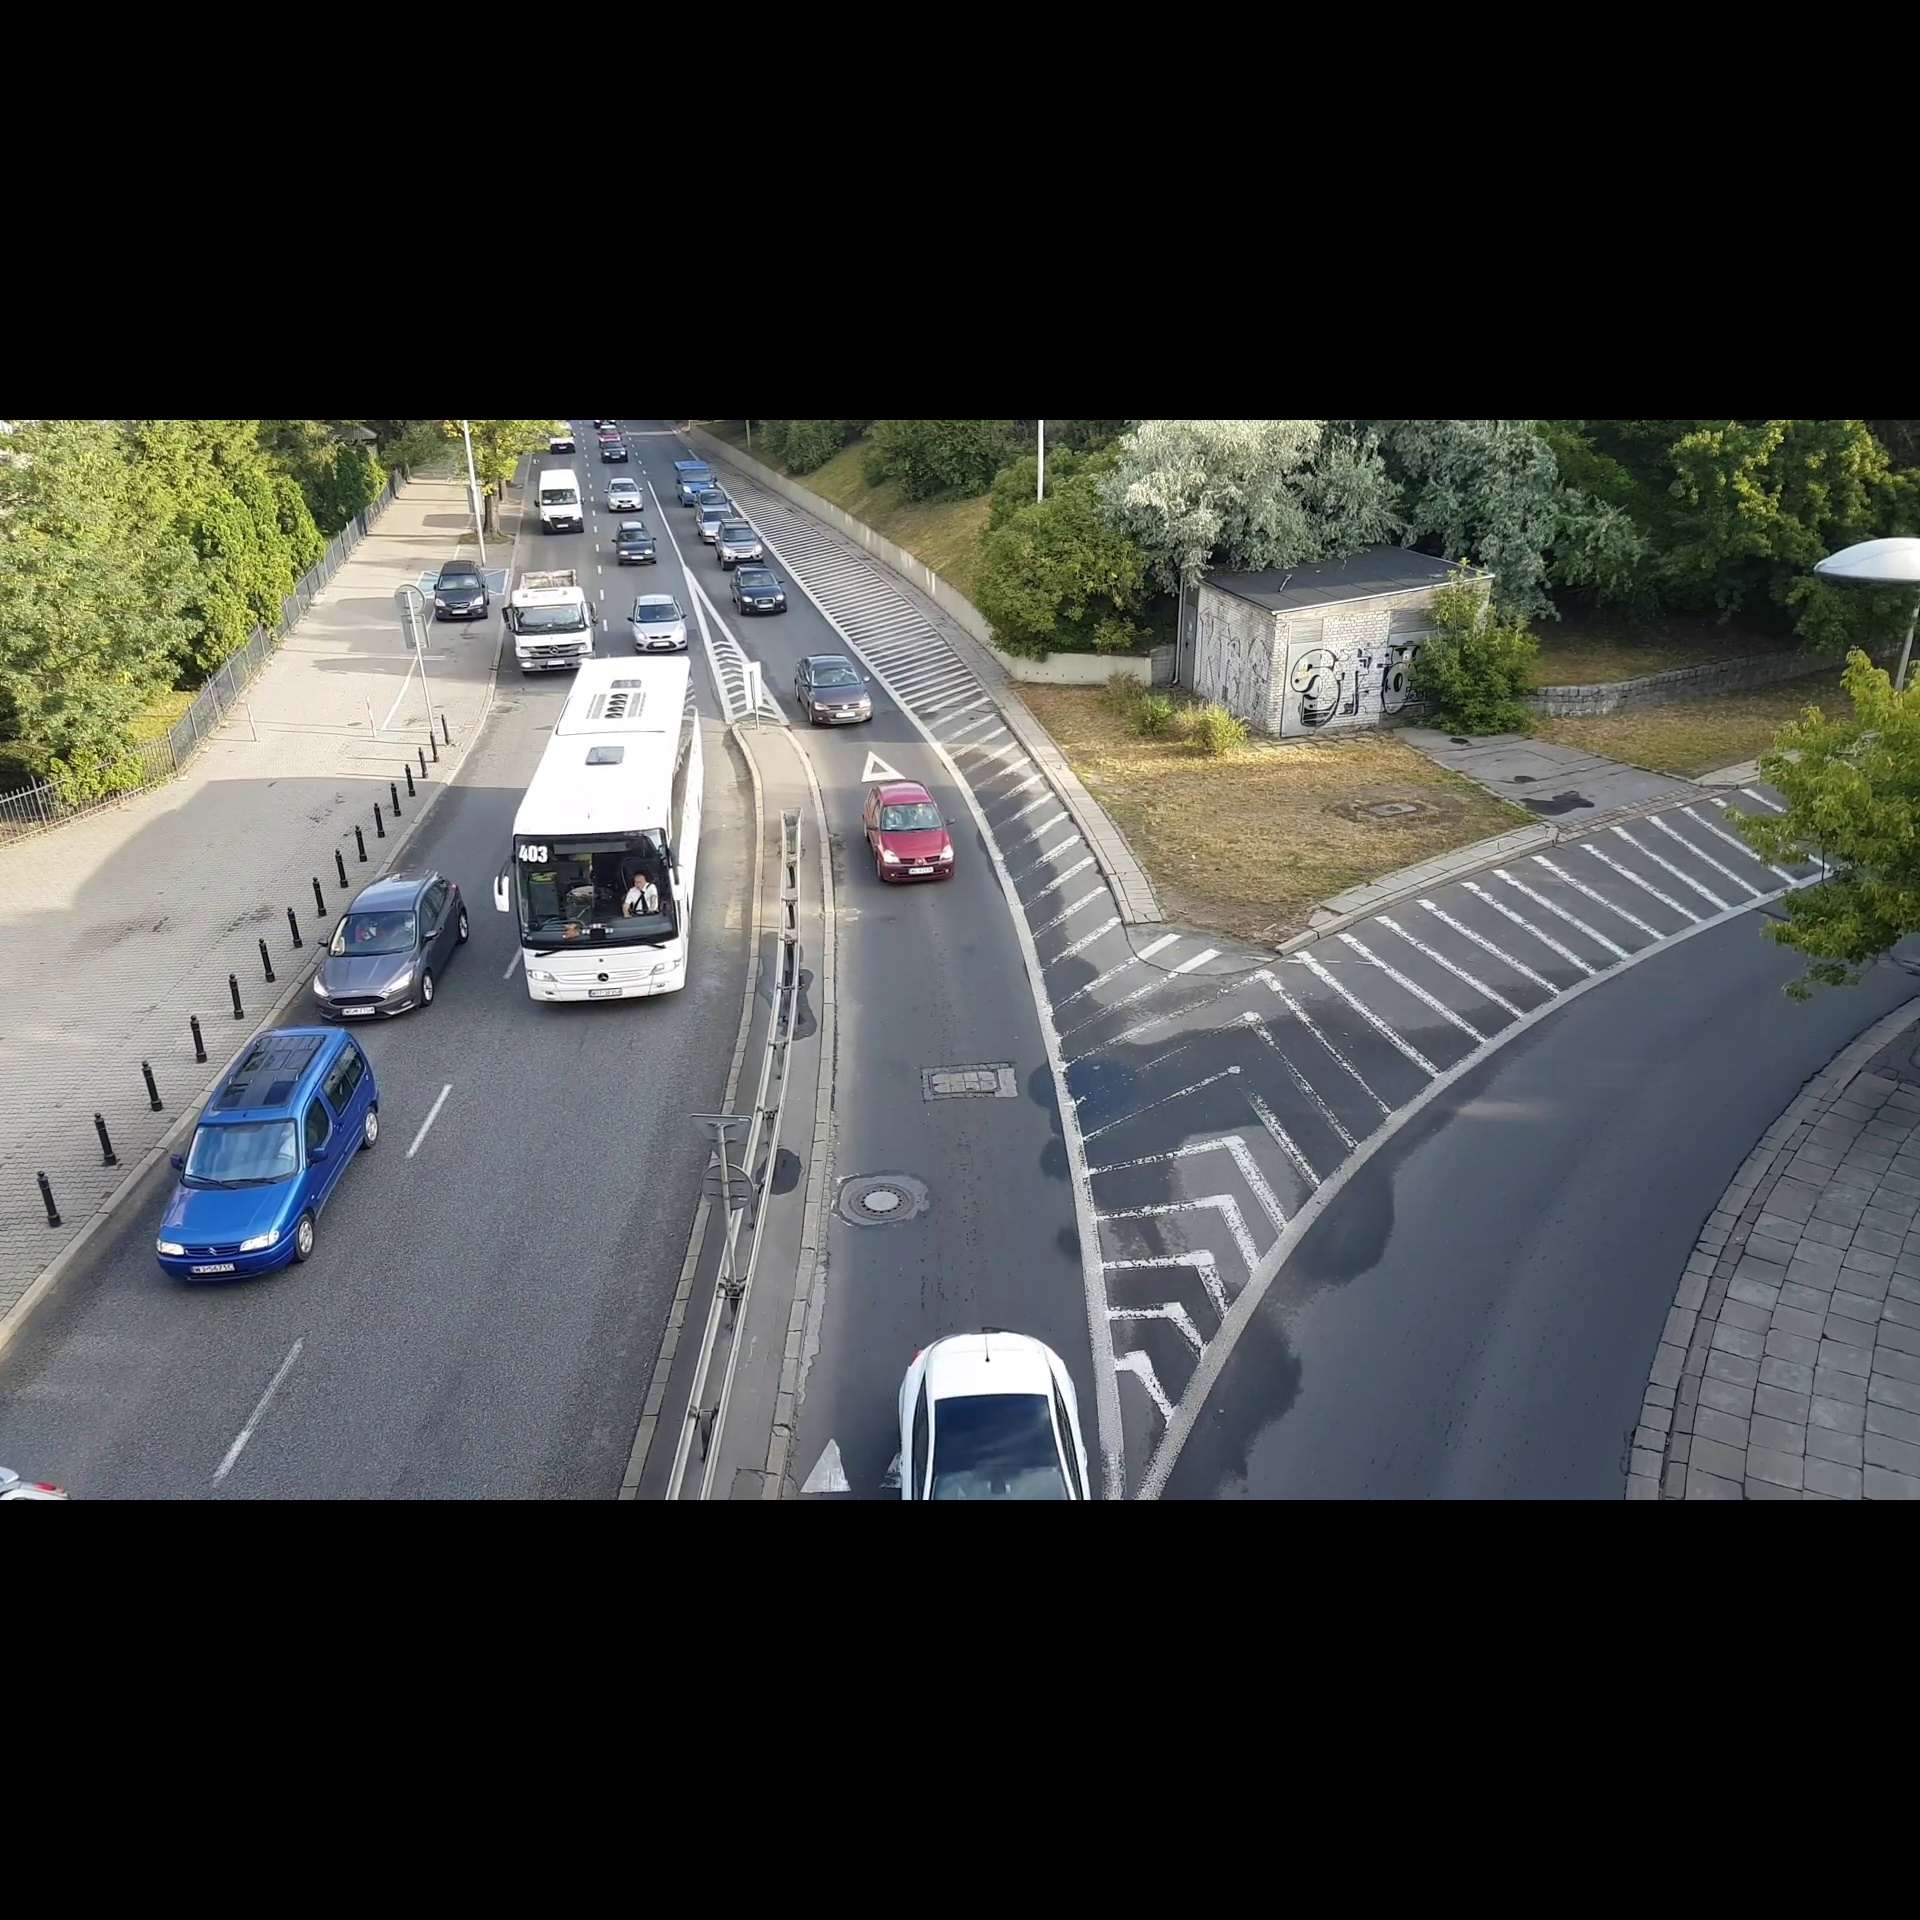vehicle: (489, 647, 712, 1020), (141, 1020, 389, 1301), (881, 1319, 1101, 1502), (308, 860, 475, 1030), (856, 772, 964, 893), (499, 564, 607, 677), (791, 649, 881, 737), (624, 587, 695, 659), (431, 554, 494, 629), (531, 466, 589, 536), (730, 561, 789, 619), (608, 519, 659, 568), (712, 519, 767, 561), (672, 459, 717, 494), (603, 476, 644, 513), (547, 420, 577, 455), (601, 441, 629, 464)
